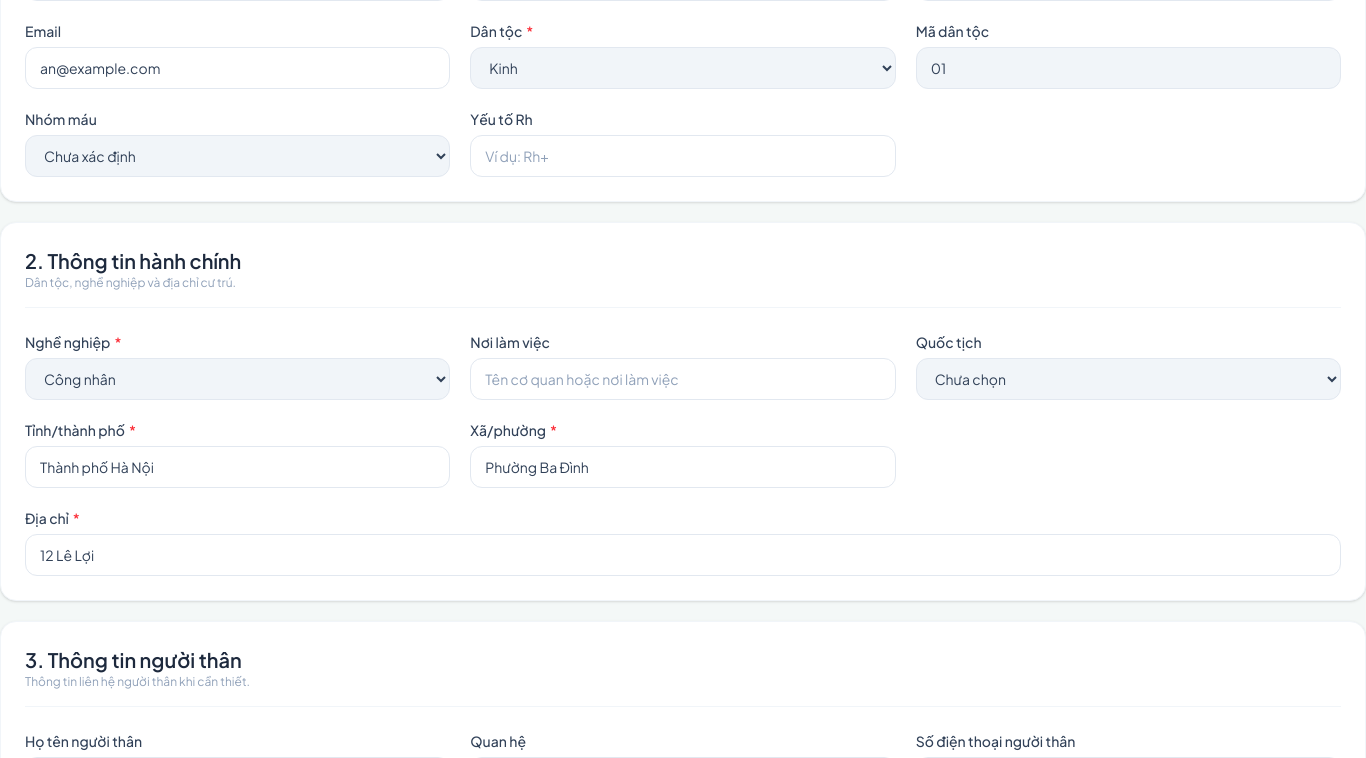
Scenario: ReceptionistUpdatePatientPage (UC-38) › says the profile changed meanwhile
This screenshot has width=1366, height=758.
(page scrolled)
Select "Y tế" in the dropdown labelled "Nghề nghiệp*" at [238, 379], box [25, 358, 450, 400]
(page scrolled)
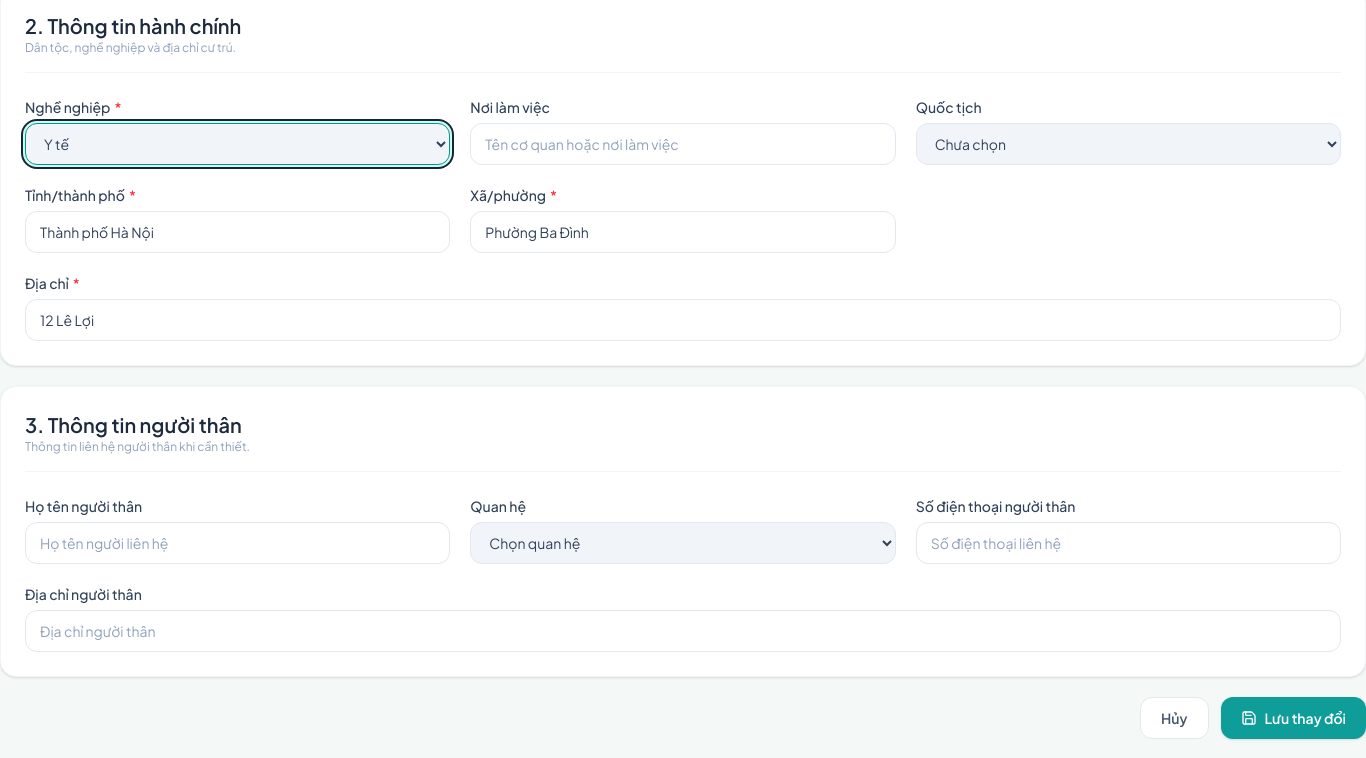
Click the button "Lưu thay đổi" at [1293, 718], box [1220, 697, 1365, 739]
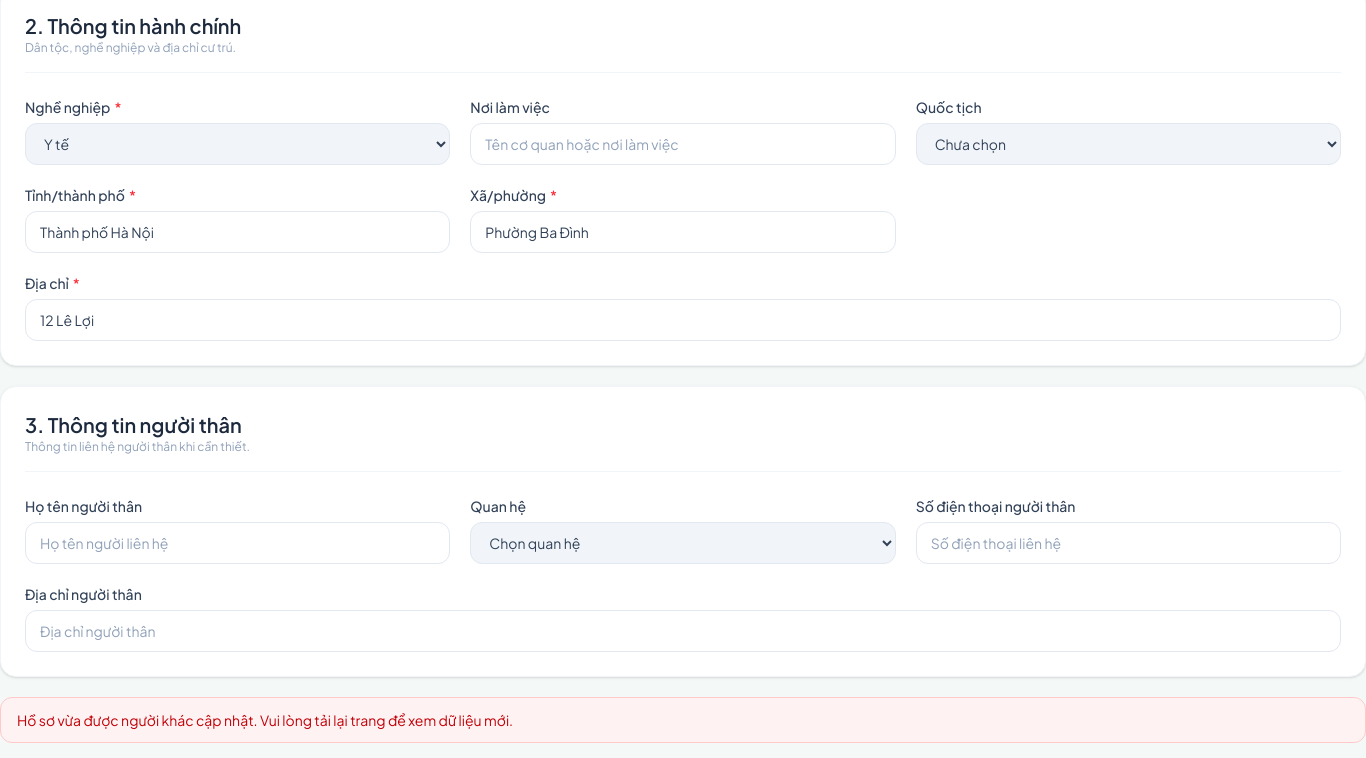
Now the message reads "Hồ sơ vừa được người khác cập nhật. Vui lòng tải lại trang để xem dữ liệu mới.", box [17, 711, 513, 729]
